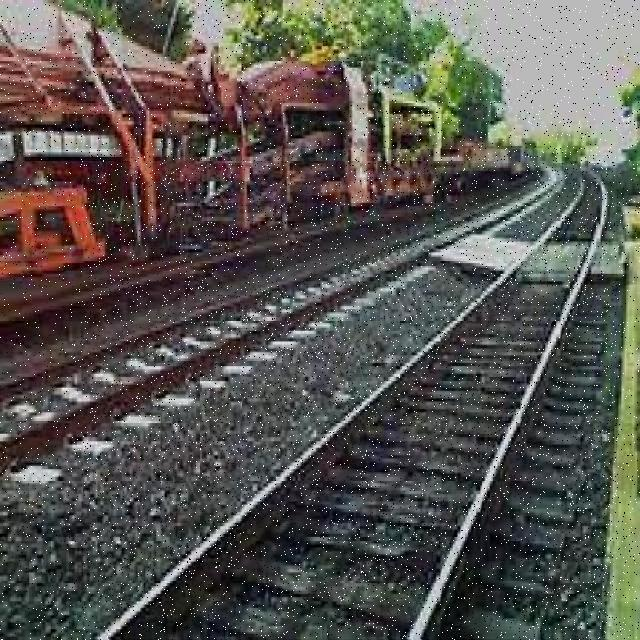rail: (85, 149, 617, 640), (1, 158, 562, 514)
